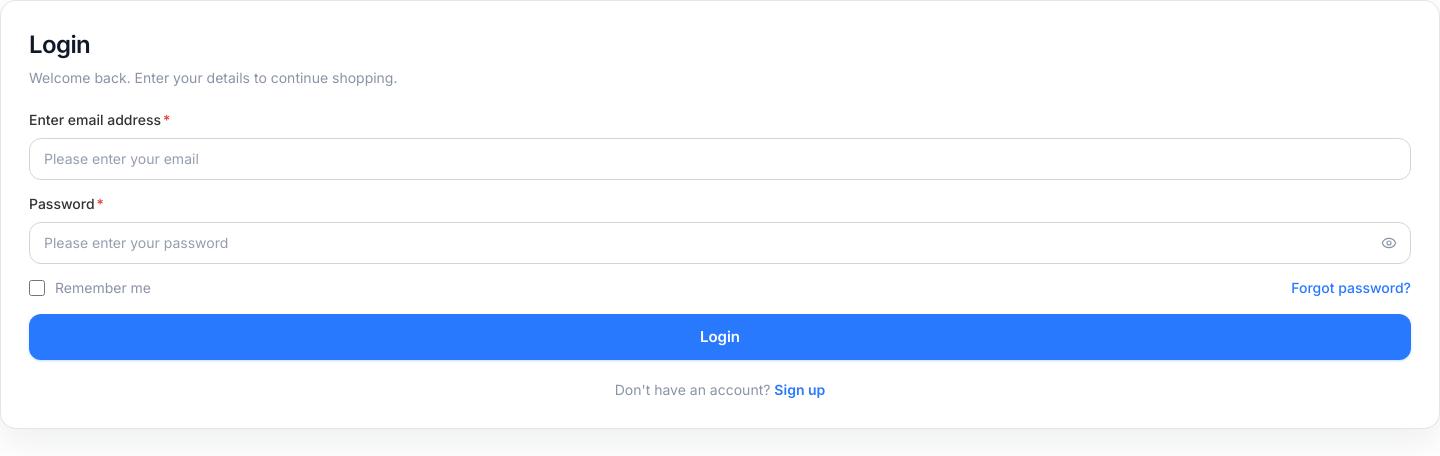
Test: LoginForm › shows error toast when credentials are invalid
Type "john@example.com" into the field labelled "Enter email address*".
click(720, 159); type("john@example.com")  # box [29,138,1411,180]
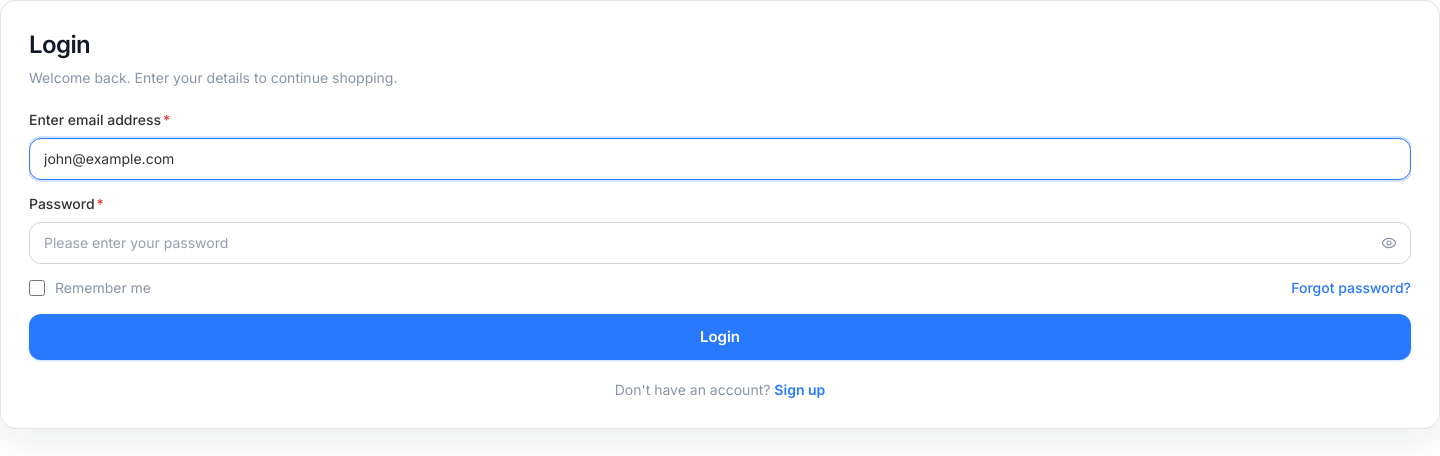
Type "wrong-password" into the password field with placeholder "Please enter your password".
click(720, 243); type("wrong-password")  # box [29,222,1411,264]
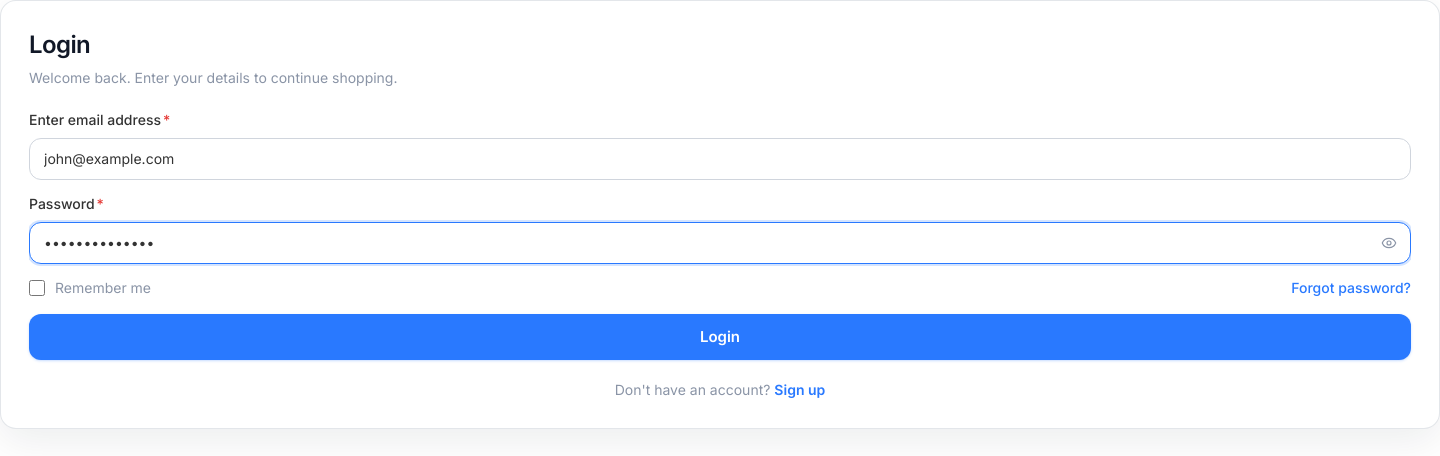
Click the button "Login".
click(720, 337)  # box [29,314,1411,360]
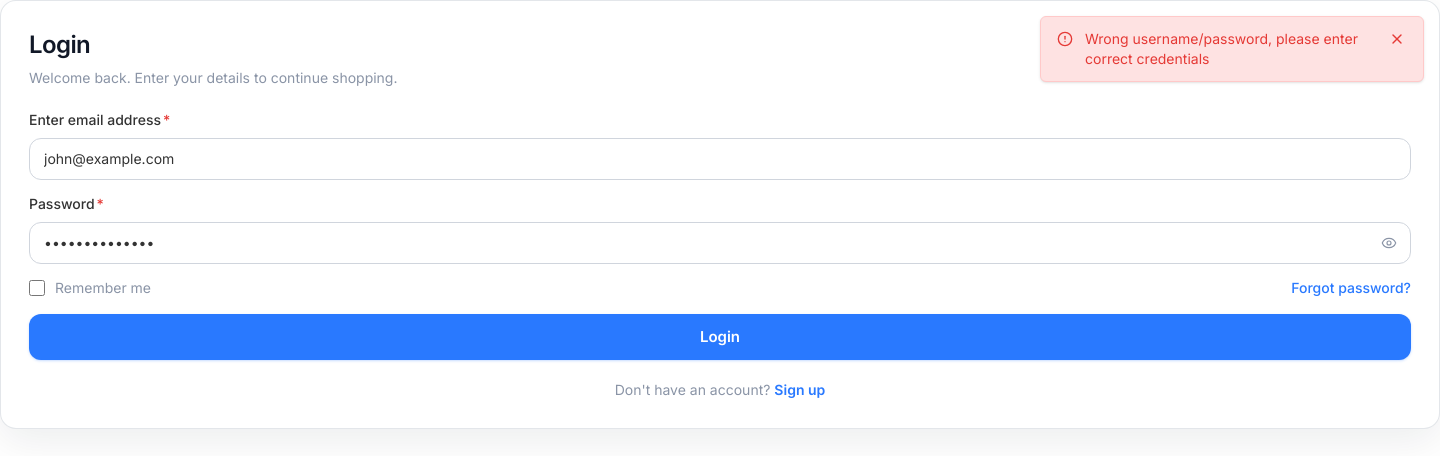
Result: the text "Wrong username/password, please enter correct credentials" is shown at [1085,29,1375,69]
